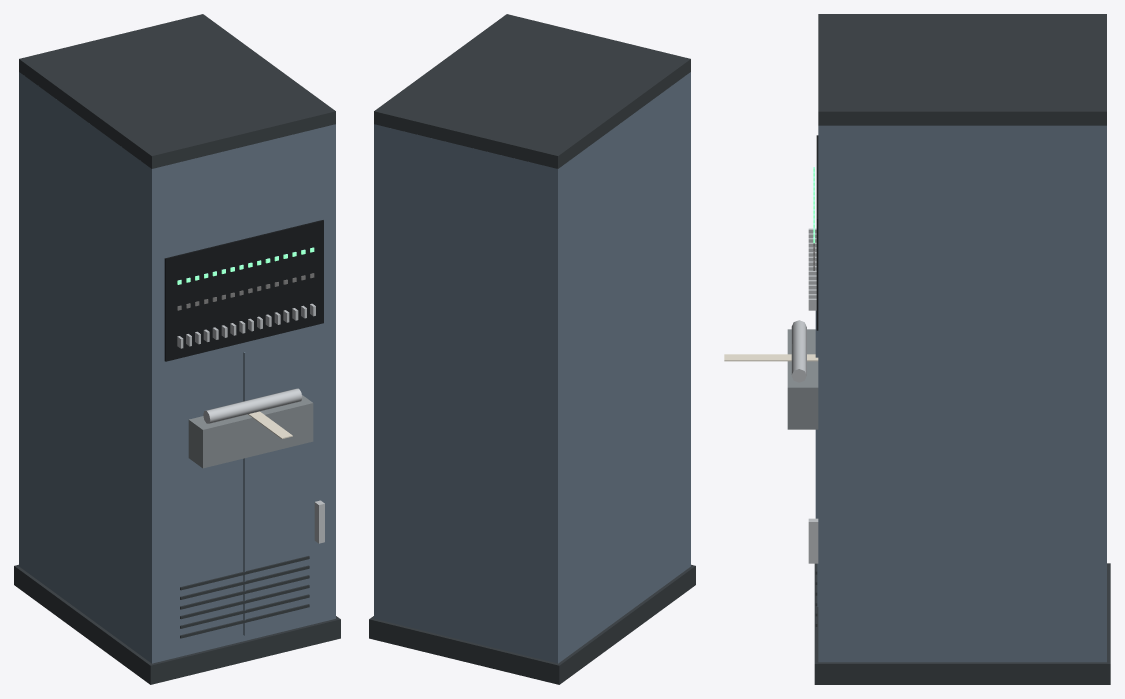
The picture shows the model from 3 angles, left to right: view 1: azimuth 30°, elevation 25°; view 2: azimuth 150°, elevation 25°; view 3: azimuth 270°, elevation 25°; orthographic projection. The views are drawn at different scales.
Visible parts, largest first — view 1: kit-ps-316, DOOR; view 2: kit-ps-316; view 3: kit-ps-316, DOOR.
Boxes of the visible parts, bbox=[...] form: kit-ps-316: bbox=[14, 14, 340, 684]; DOOR: bbox=[243, 352, 245, 635]; kit-ps-316: bbox=[369, 14, 695, 684]; kit-ps-316: bbox=[724, 14, 1110, 684]; DOOR: bbox=[815, 310, 818, 606].
Size of the model in its own units: 0.62 by 1.64 by 1.
